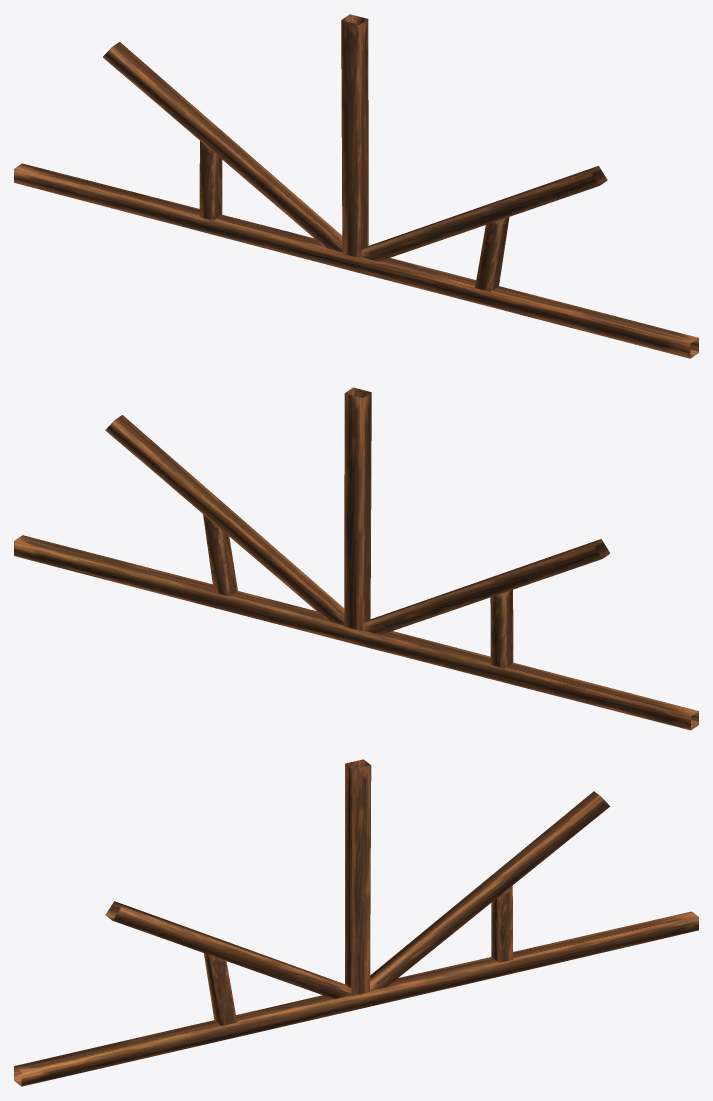
Rendered from SWORDLIGHT20_JAILCEILBRACKET01.fbx.
3 renders of one model, top to bottom at view 1: azimuth 30°, elevation 25°; view 2: azimuth 210°, elevation 25°; view 3: azimuth 270°, elevation 25°, orthographic. The views are drawn at different scales.
Visible parts, largest first — view 1: SWORDLIGHT20_JAILCEILBRACKET01; view 2: SWORDLIGHT20_JAILCEILBRACKET01; view 3: SWORDLIGHT20_JAILCEILBRACKET01.
Part boxes in pixels (x1,y1,x2,y2): SWORDLIGHT20_JAILCEILBRACKET01: [14, 14, 698, 358]; SWORDLIGHT20_JAILCEILBRACKET01: [14, 387, 698, 730]; SWORDLIGHT20_JAILCEILBRACKET01: [14, 759, 698, 1086].
Size of the model in its own units: 71200 by 49666 by 127840.
1 material, 1 textured.
